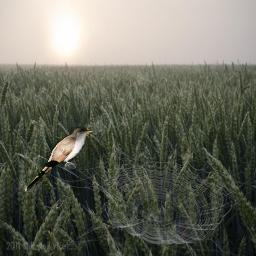Cuckoo: (24, 127, 94, 192)
